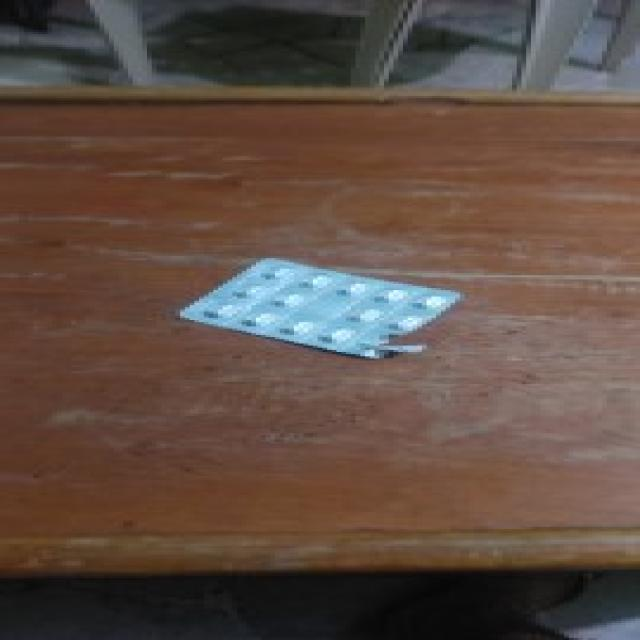Cacat: (174, 255, 460, 363)
Kemasan: (341, 336, 438, 360)
